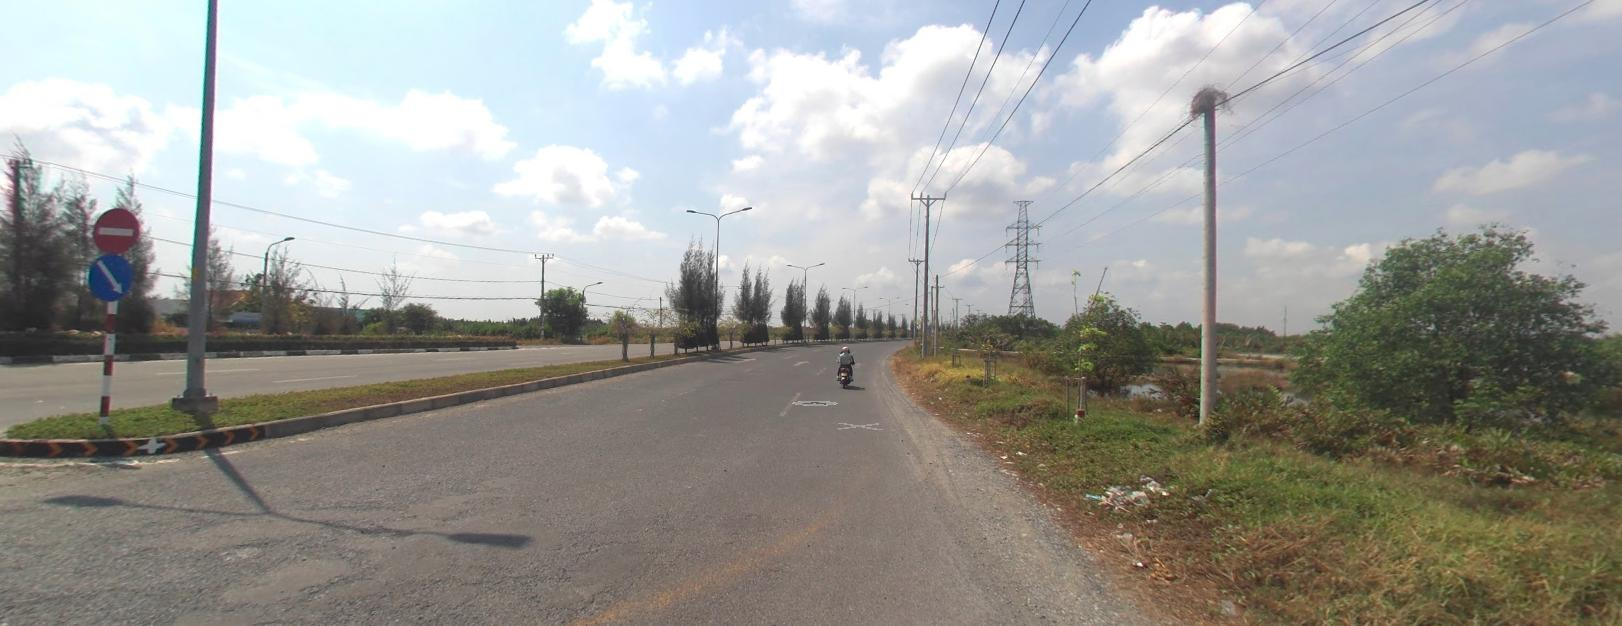Cam nguoc chieu: (91, 206, 140, 252)
Hieu lenh: (87, 253, 134, 299)
